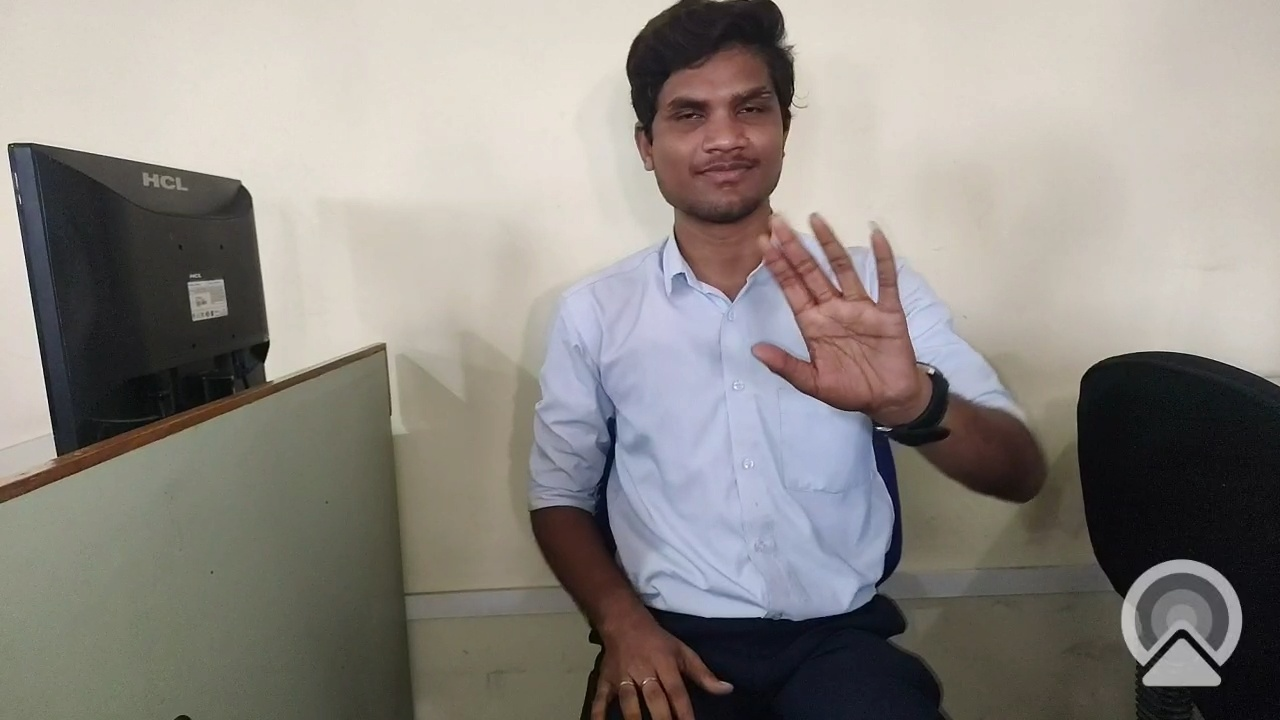Hello: (736, 194, 955, 446)
